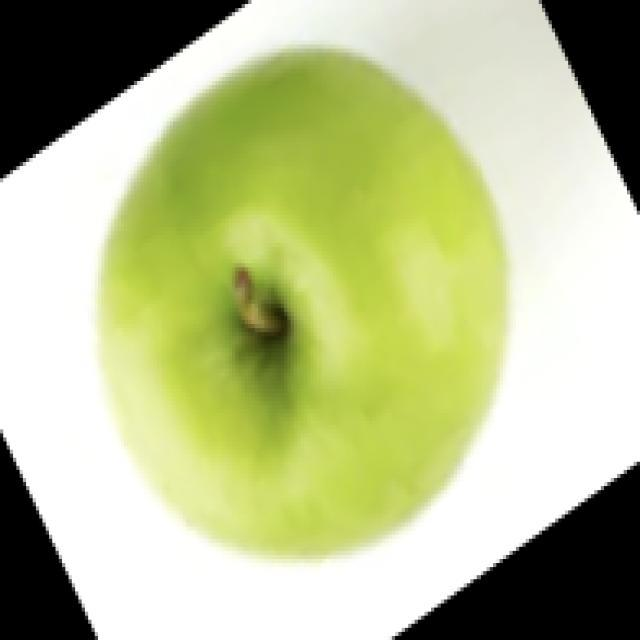Apple: (94, 42, 510, 559)
